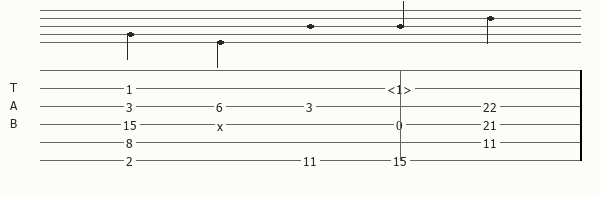0: (396, 118, 407, 131)
1: (126, 82, 137, 95)
11: (303, 154, 321, 167), (483, 136, 501, 149)
15: (123, 118, 141, 131), (393, 154, 411, 167)
2: (126, 154, 137, 167)
21: (483, 118, 501, 131)
22: (483, 100, 501, 113)
3: (126, 100, 137, 113), (306, 100, 317, 113)
6: (216, 100, 227, 113)
8: (126, 136, 137, 149)
harmonic: (387, 82, 416, 95)
x: (217, 119, 227, 130)
